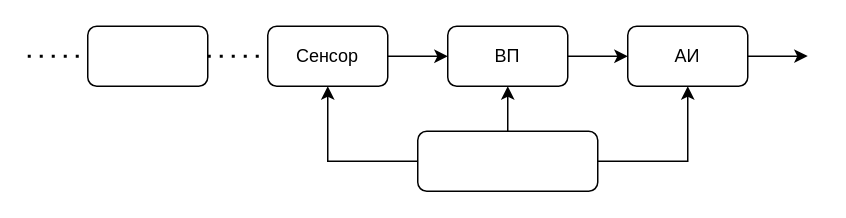
This 846x218 diagram has some shape labels left out. The box of each missing label's shape, as (x1, y1, x2, y2) in pixels:
ОС: (86, 25, 208, 86)
СГ: (416, 130, 598, 191)
